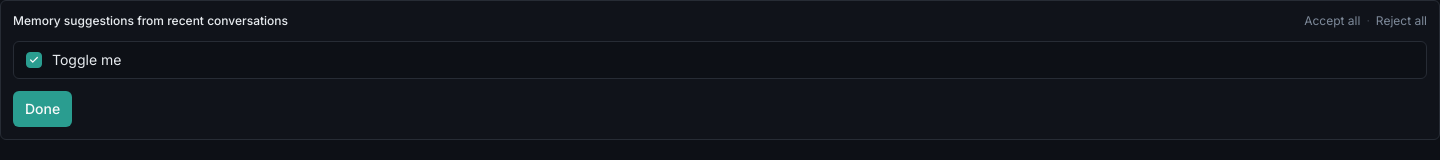
Test: ProposalReviewPanel › decision controls › clicking checkbox toggles proposal from accept to reject
Expected: the text "Toggle me" is shown, left=52, top=51, right=121, bottom=68
# Initially accept — click to reject
Click the button named "Uncheck to reject".
click(34, 60)  # box left=26, top=52, right=42, bottom=68
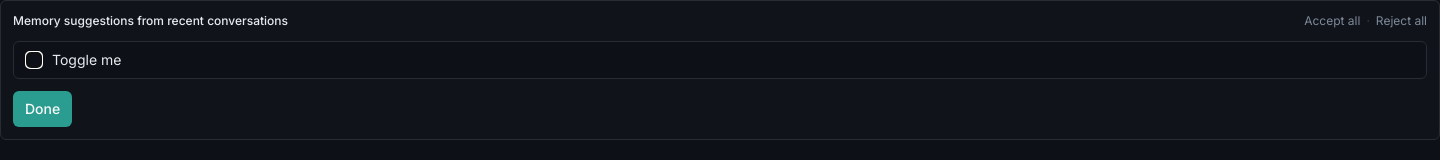
Now the button named "Check to accept" is shown, box left=26, top=52, right=42, bottom=68
